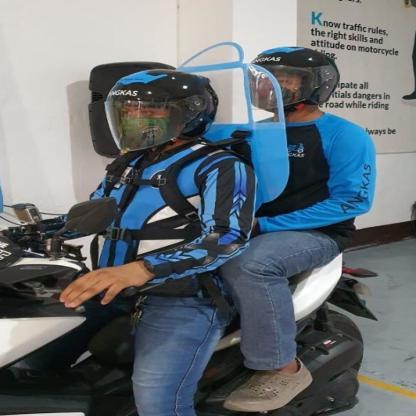helmet: (105, 68, 220, 152), (248, 45, 342, 112)
